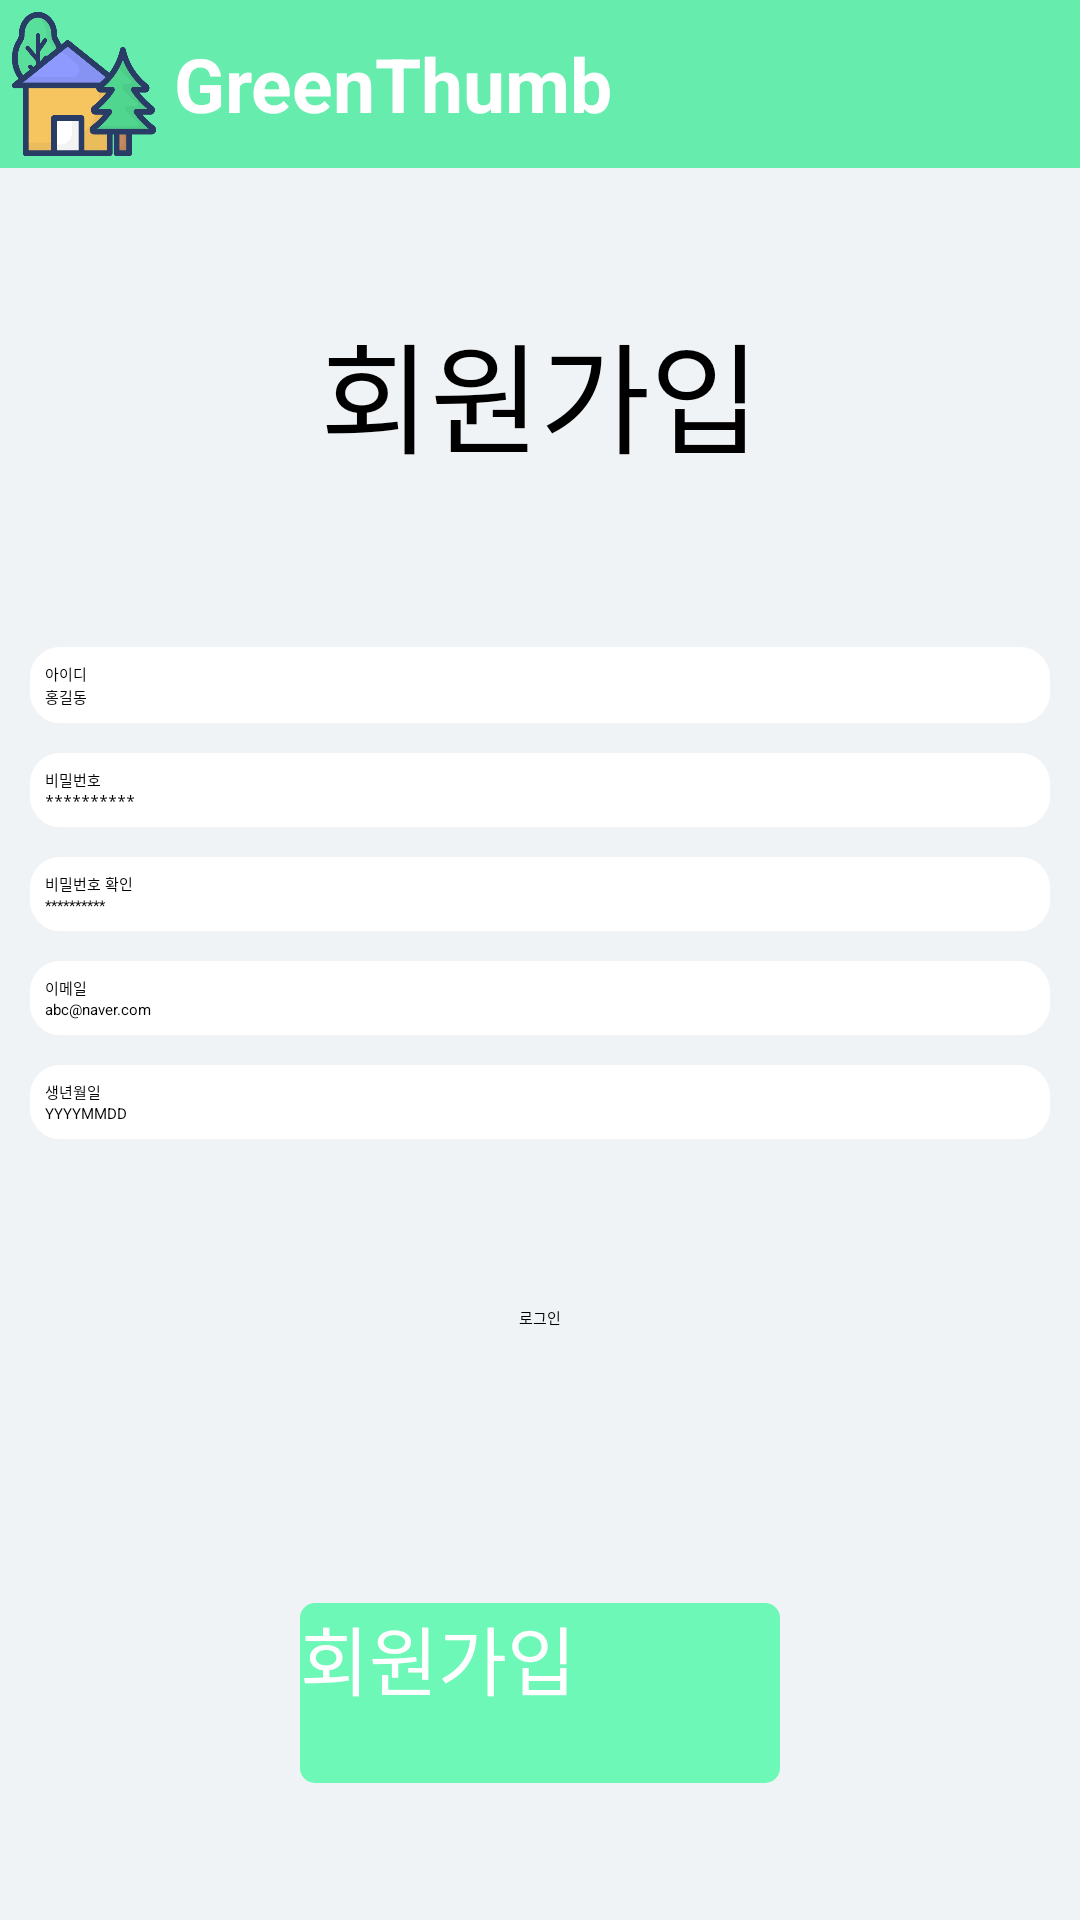

Where icons sit on this 1080w x 1920h app screen, as (x1, y1, x2, y2):
home: (12, 12, 156, 156)
